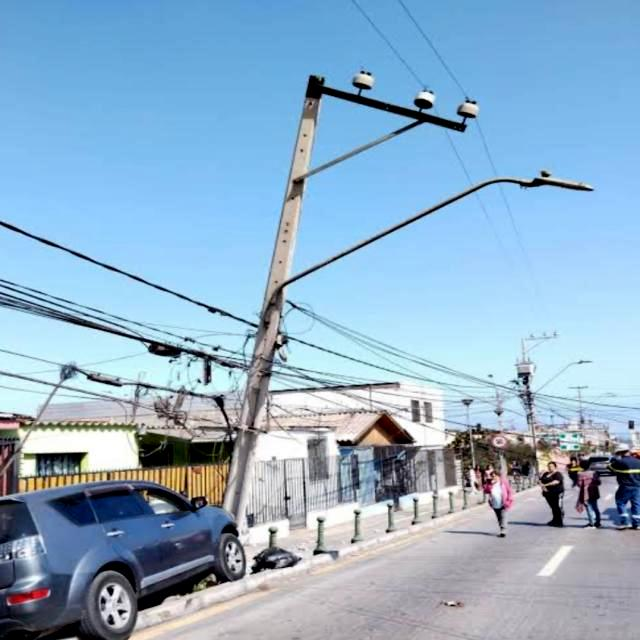Broken Pole: (224, 57, 598, 519)
